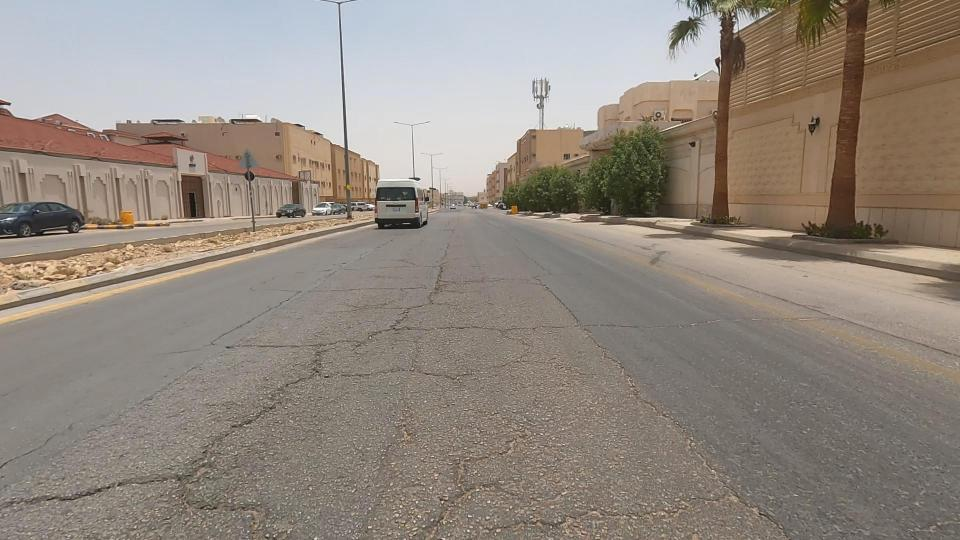POTHOLES: (0, 363, 387, 540), (211, 276, 433, 424), (372, 403, 598, 540), (325, 221, 529, 360)
